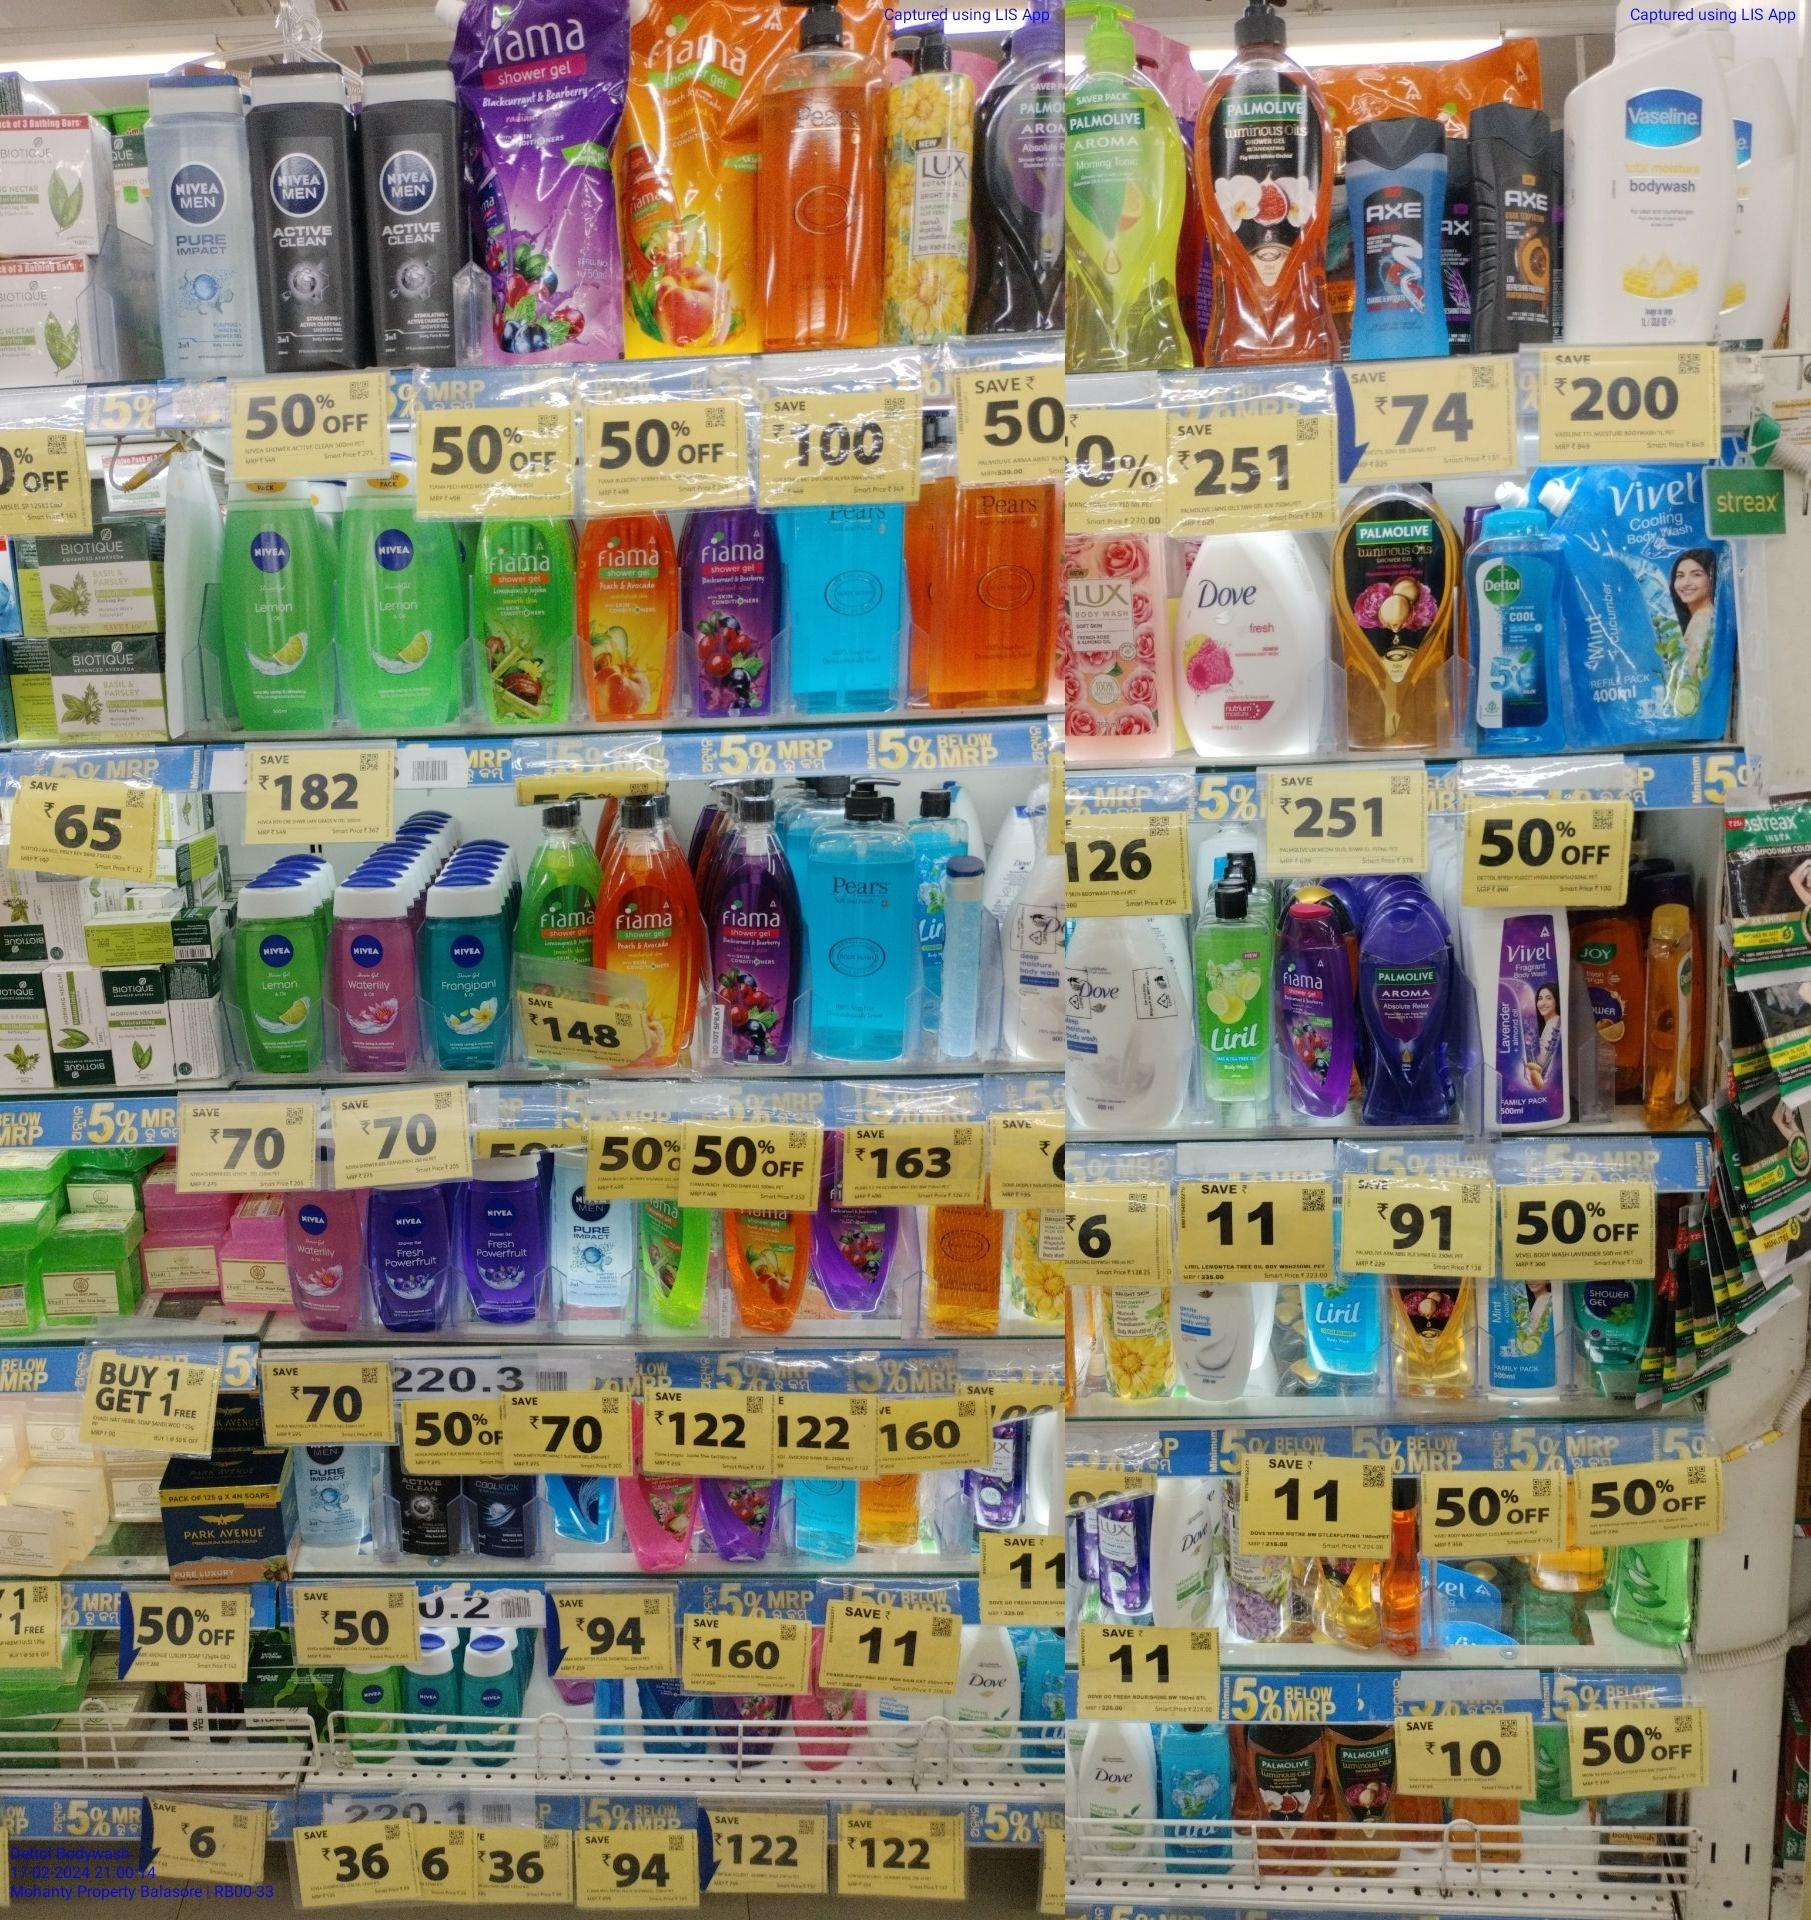Dettol_Bodywash_Cool: (1465, 507, 1576, 752)
Dove_Refreshing_Body_Wash_250ML: (957, 1615, 1021, 1775), (1083, 1723, 1156, 1864)
Fiama_Shower_Gel_Lemongrass_and_Jojoba_250ML: (473, 517, 572, 729)
Fiama_Shower_Gel_Peach_and_Avocado_250ML: (579, 519, 667, 725)
Liril_Cooling_Mint_Body_Wash_250ML: (1163, 1723, 1236, 1876)
Liril_Lime_and_Tea_Tree_Oil_Body_Wash_250ML: (1193, 878, 1275, 1108)
Nivea_Shower_Gel_Frangipani_and_Oil_250ML: (427, 873, 509, 1069)
Nivea_Shower_Gel_Lemon_and_Oil_250ML: (344, 465, 460, 722), (226, 475, 334, 735), (235, 882, 325, 1074)
Nivea_Shower_Gel_Waterlily_and_Oil_250ML: (335, 883, 422, 1074)
Palmolive_Aroma_Relax_250ML: (1355, 906, 1459, 1123)
Palmolive_Luminous_Oils_Invigorating_Macadamia_Oil_With_Peony_250ML: (1331, 1726, 1401, 1877)
Palmolive_Luminous_Oils_With_White_Orchid_Shower_Gel_250ML: (1249, 1724, 1326, 1883)
